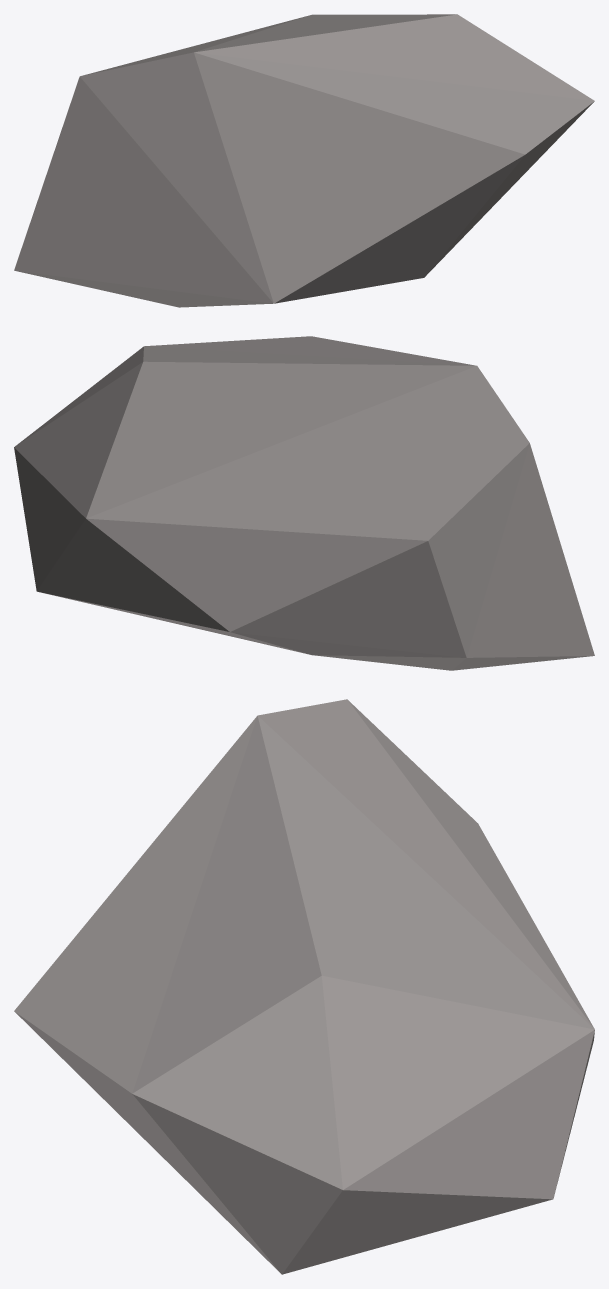
The model's file is SM_Rock_M_01.fbx.
3 views of the same model, one above another, from view 1: azimuth 30°, elevation 25°; view 2: azimuth 150°, elevation 25°; view 3: azimuth 270°, elevation 25° (orthographic). The views are drawn at different scales.
Parts seen in each view (by area): view 1: SM_Rock_M_01; view 2: SM_Rock_M_01; view 3: SM_Rock_M_01.
Boxes of the visible parts, x1=… form: SM_Rock_M_01: x1=14, y1=14, x2=594, y2=307; SM_Rock_M_01: x1=14, y1=336, x2=594, y2=670; SM_Rock_M_01: x1=14, y1=699, x2=594, y2=1274.
Size of the model in its own units: 238 by 121 by 160.
